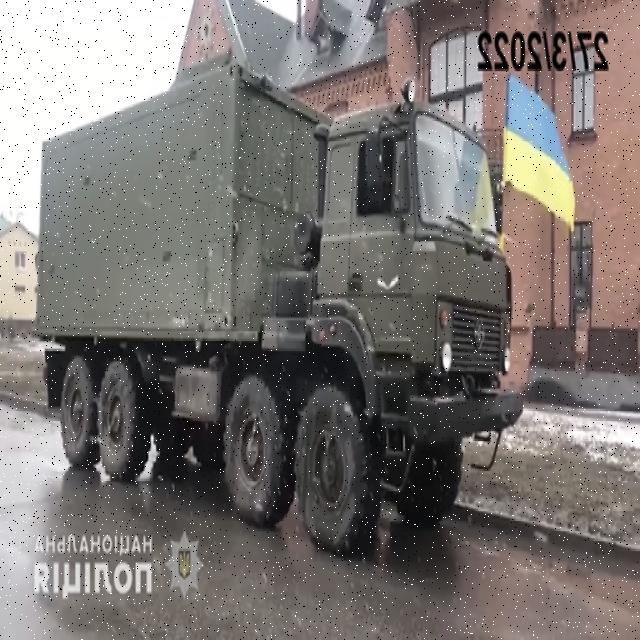TRUCK: (31, 44, 528, 560)
